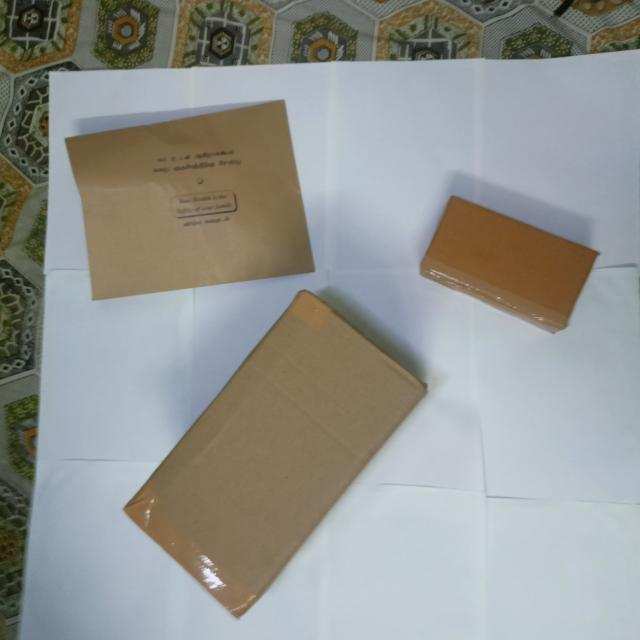box: (122, 292, 429, 621), (65, 98, 320, 306), (419, 191, 600, 337)
